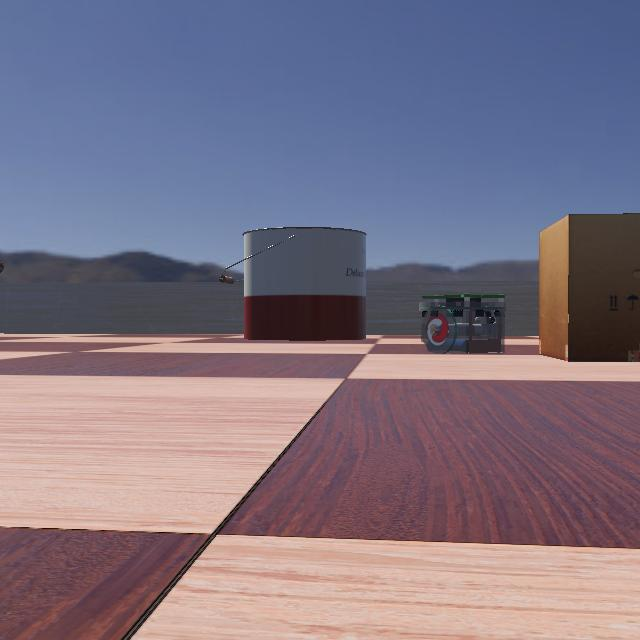cardboard-box: (525, 206, 639, 364)
cat: (0, 248, 10, 282), (0, 248, 10, 282), (0, 248, 10, 282)
paint-bucket: (209, 225, 371, 341), (209, 225, 371, 341)
